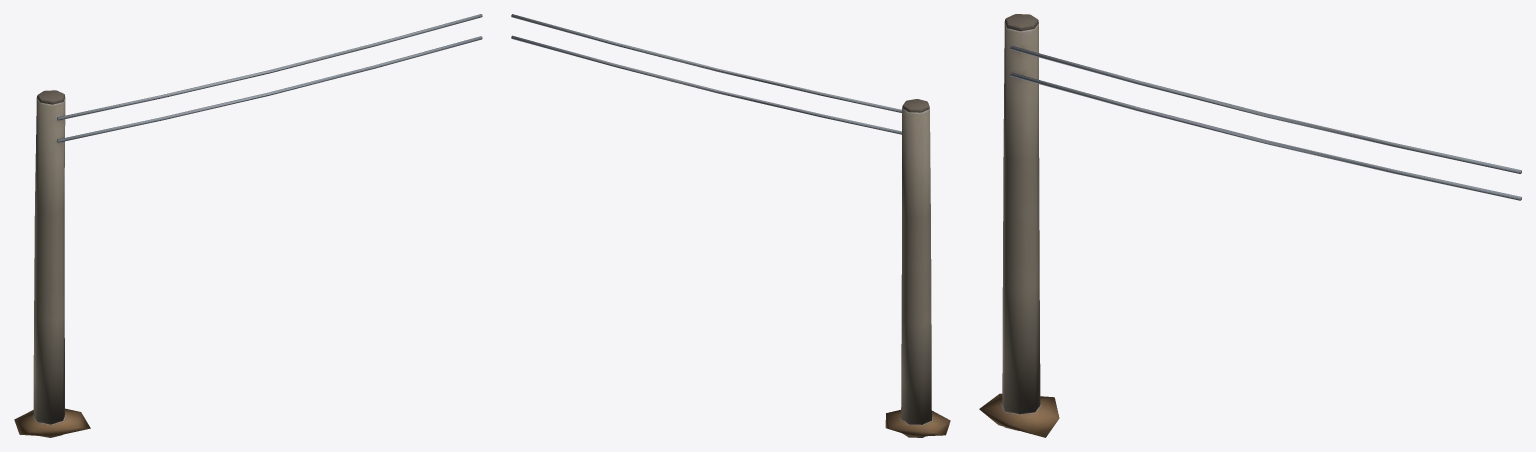
File: pen_fence_cut_post.glb
The picture shows the model from 3 angles, left to right: view 1: azimuth 30°, elevation 25°; view 2: azimuth 150°, elevation 25°; view 3: azimuth 330°, elevation 25°; orthographic projection. The views are drawn at different scales.
Parts seen in each view (by area): view 1: pen_fence_cut_post; view 2: pen_fence_cut_post; view 3: pen_fence_cut_post.
Part boxes in pixels (<box>): pen_fence_cut_post: <box>14,14,482,437</box>; pen_fence_cut_post: <box>511,14,950,437</box>; pen_fence_cut_post: <box>979,14,1521,437</box>.
Bounding box in the file's own units: 3.21 × 2.29 × 0.409.
1 material, 1 textured.
